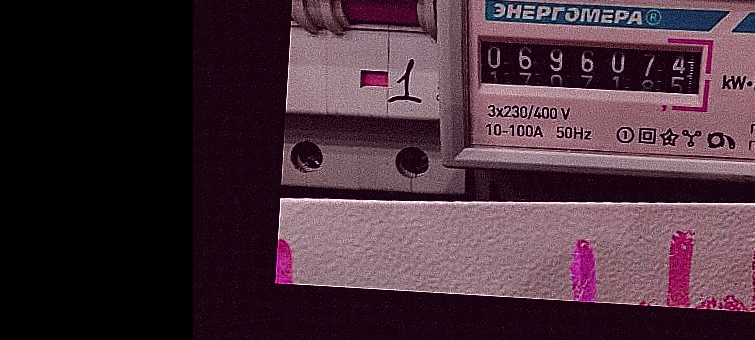0: (483, 43, 503, 69), (610, 47, 627, 74)
4: (671, 50, 688, 75)
5: (670, 74, 686, 93)
6: (516, 43, 536, 71), (578, 47, 596, 72)
7: (638, 50, 658, 77)
9: (546, 45, 566, 71)
screen: (463, 20, 719, 116)
